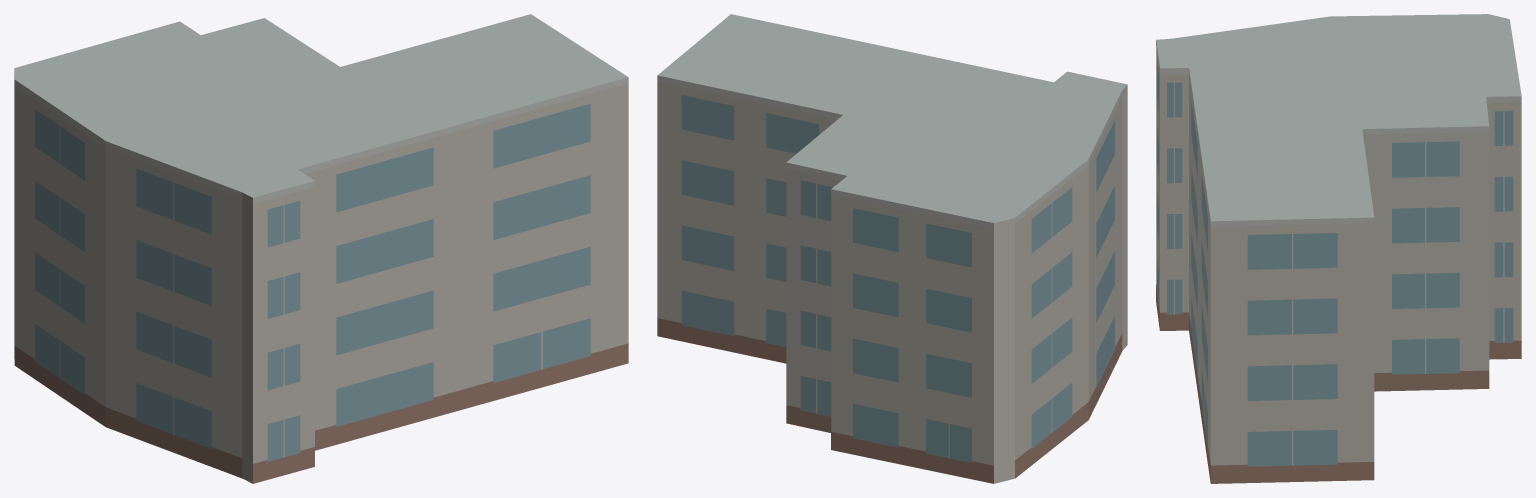
The model's file is survey-upis-32549370.glb.
3 renders of one model, left to right at view 1: azimuth 30°, elevation 25°; view 2: azimuth 150°, elevation 25°; view 3: azimuth 270°, elevation 25°, orthographic. The views are drawn at different scales.
Parts seen in each view (by area): view 1: survey-upis-32549370.tmp; view 2: survey-upis-32549370.tmp; view 3: survey-upis-32549370.tmp.
Part boxes in pixels (<box>): survey-upis-32549370.tmp: <box>14,14,628,483</box>; survey-upis-32549370.tmp: <box>657,14,1127,483</box>; survey-upis-32549370.tmp: <box>1156,14,1521,483</box>.
Size of the model in its own units: 18.8 by 11.1 by 14.01.
